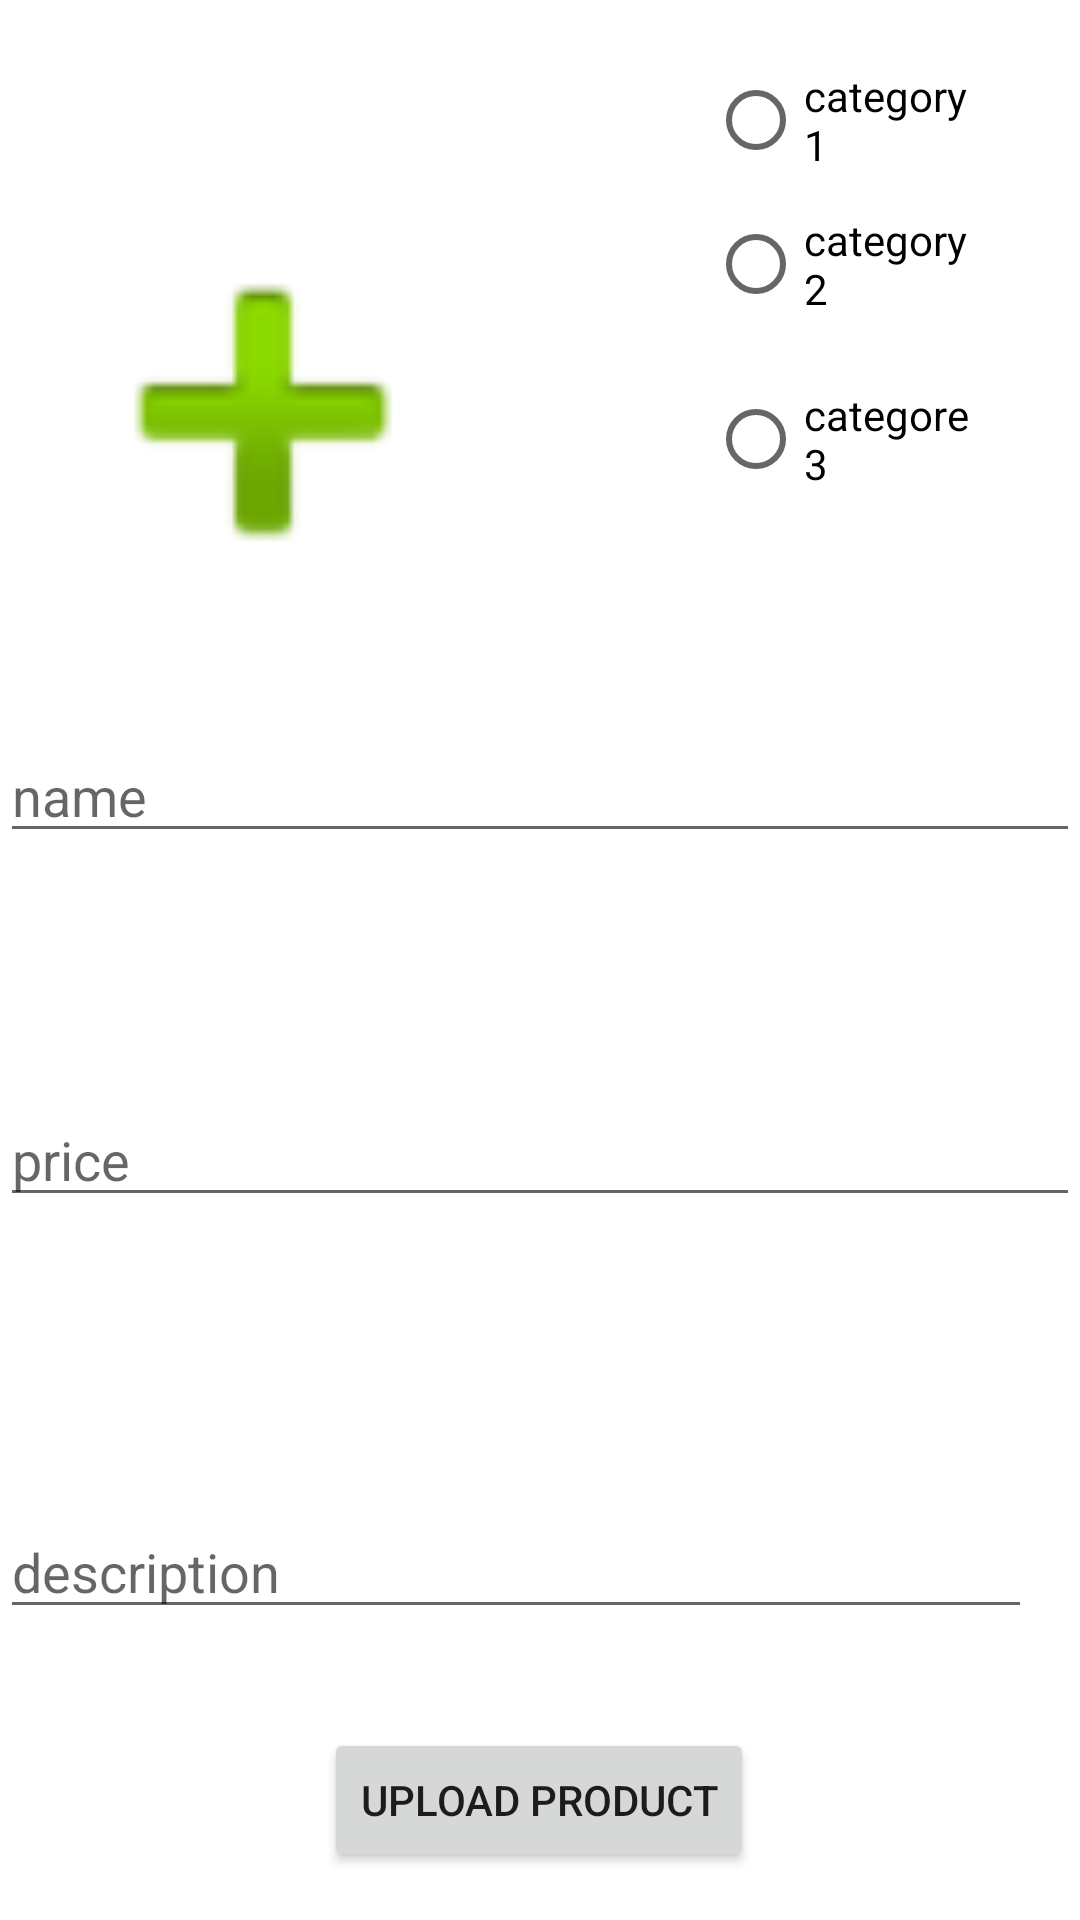

Icon bounding boxes for this 1080 × 1920 phone screenshot, format (x1, y1, x2, y2):
add: (135, 284, 391, 540)
